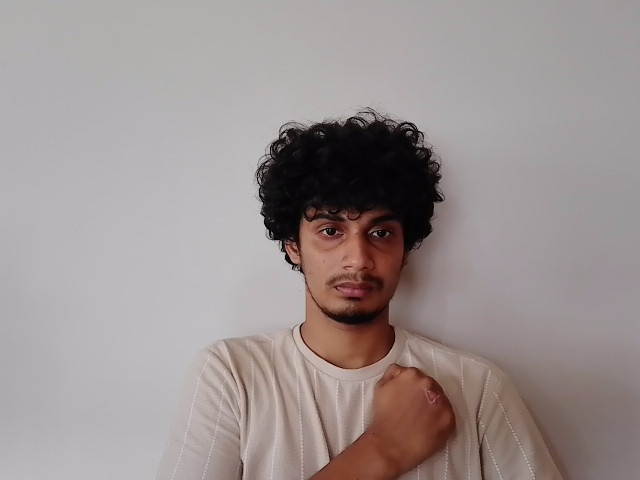sorry: (351, 327, 556, 480)
